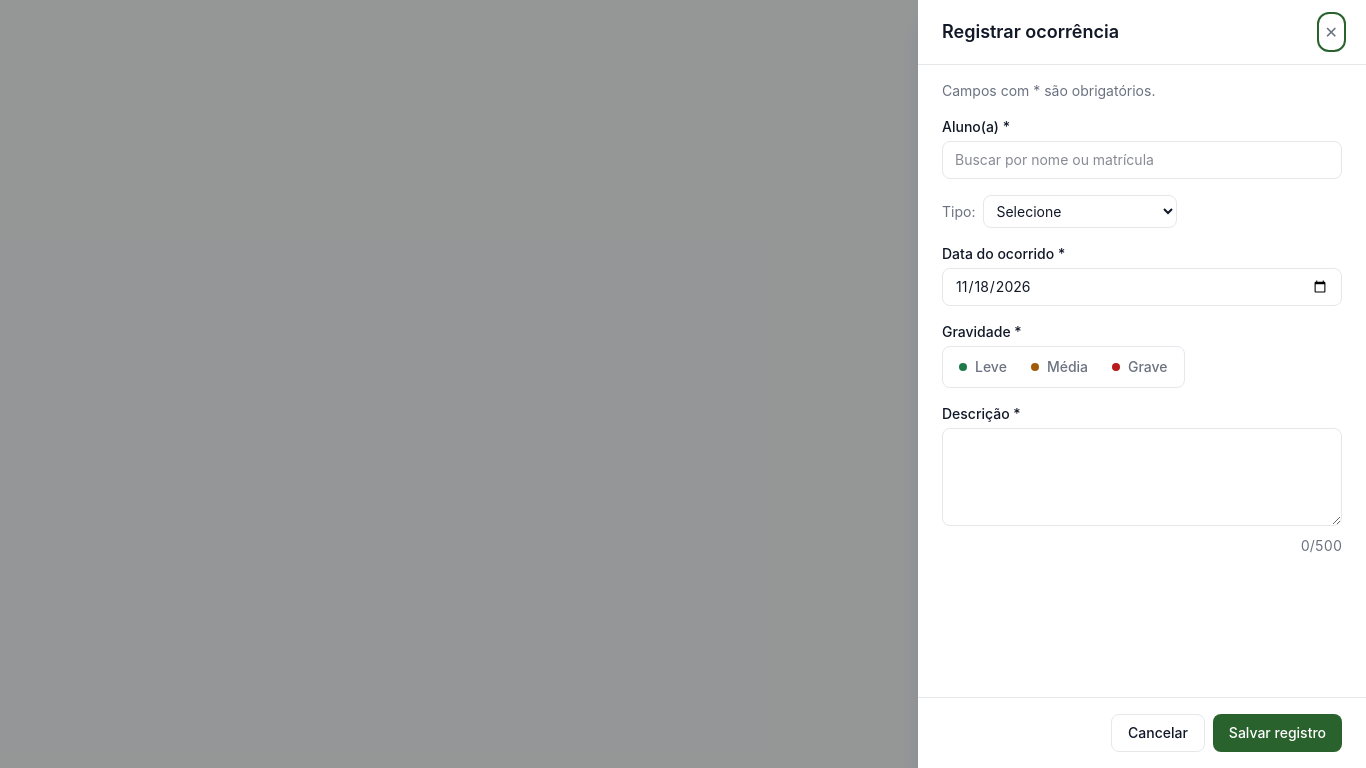
Scenario: RegistrarOcorrenciaDrawer › atualiza o contador da descrição conforme o texto digitado
Check: the text "0/500" is shown, box 1301,536 -> 1342,556
Type "Utilizou o celular em aula." into the text box labelled "Descrição *" at x=1142, y=477, box 942,428 -> 1342,526
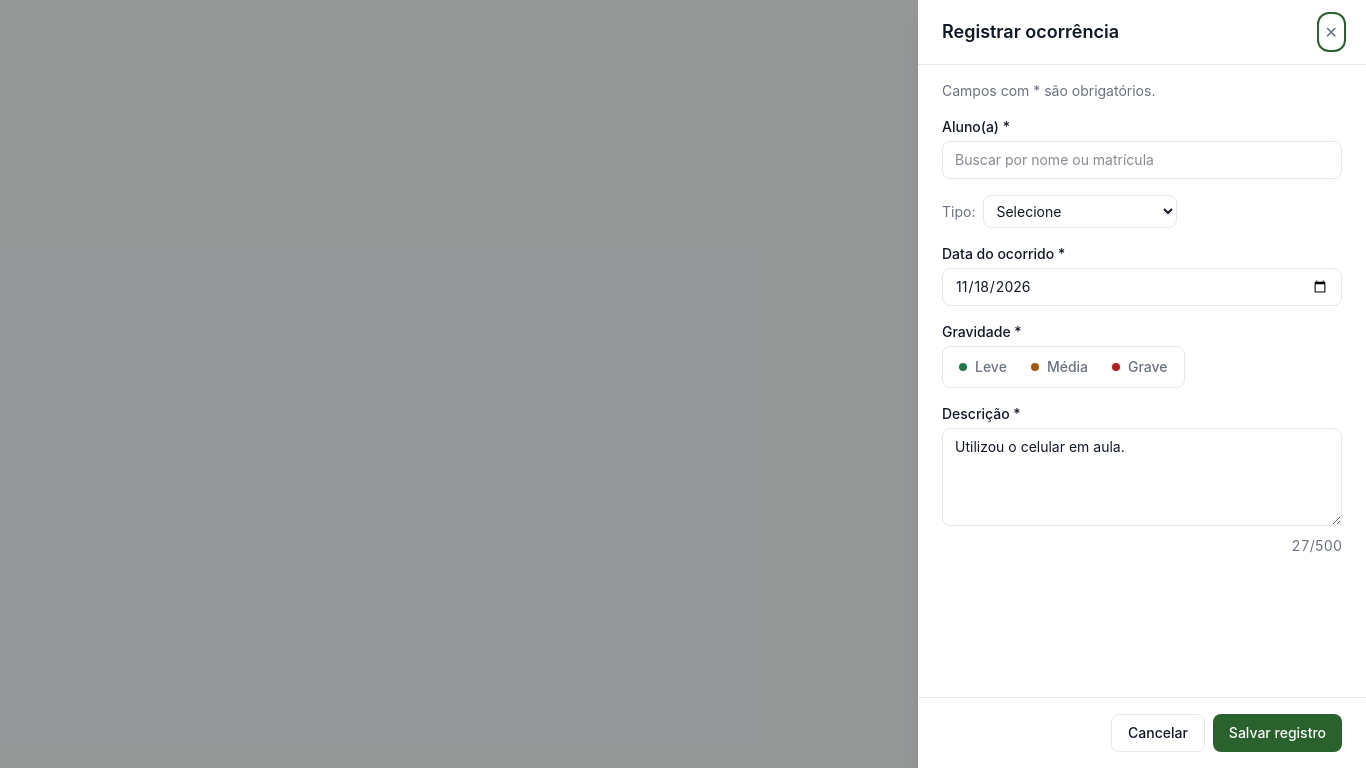
Check: the text "27/500" is shown, box 1292,536 -> 1342,556
